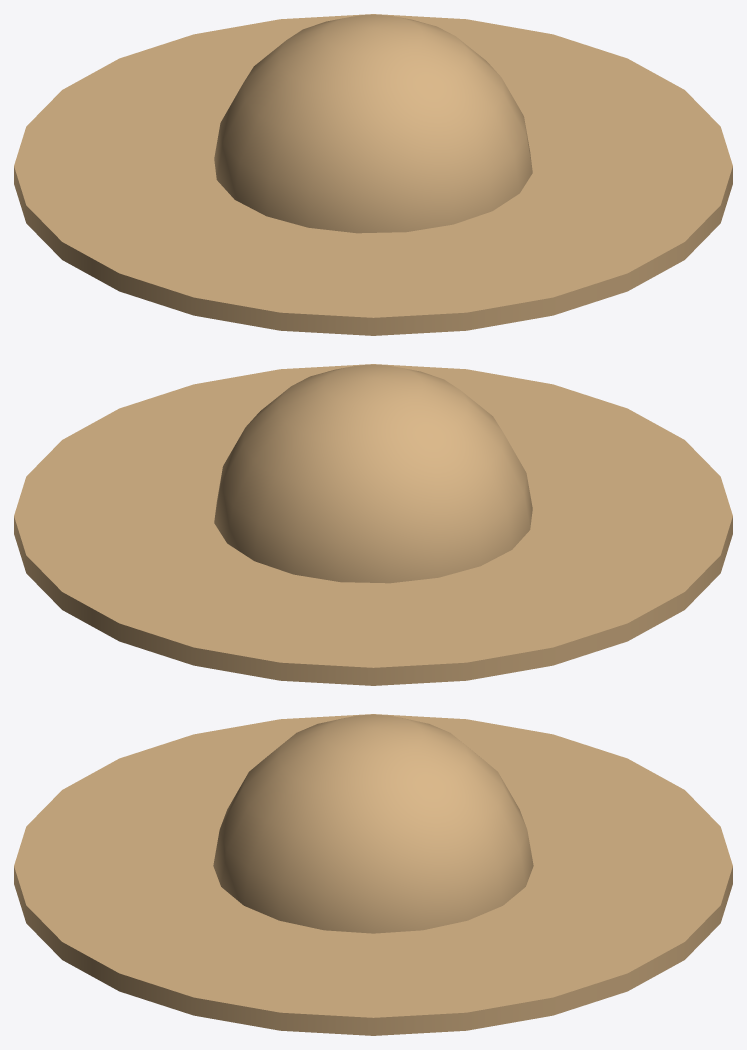
File: hat_cowboy.glb
The picture shows the model from 3 angles, top to bottom: view 1: azimuth 30°, elevation 25°; view 2: azimuth 150°, elevation 25°; view 3: azimuth 270°, elevation 25°; orthographic projection.
Parts seen in each view (by area): view 1: hat_cowboy; view 2: hat_cowboy; view 3: hat_cowboy.
Part boxes in pixels (x1,y1,x2,y2): hat_cowboy: (14, 14, 732, 335); hat_cowboy: (14, 364, 732, 685); hat_cowboy: (14, 714, 732, 1035).
Size of the model in its own units: 0.72 by 0.172 by 0.72.
